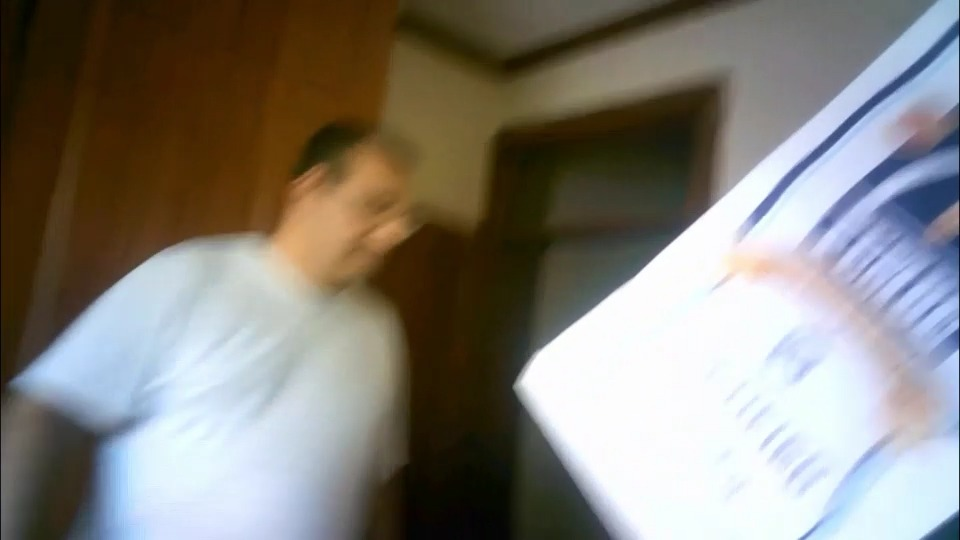wheat_flour_blue_label: (515, 2, 957, 540)
